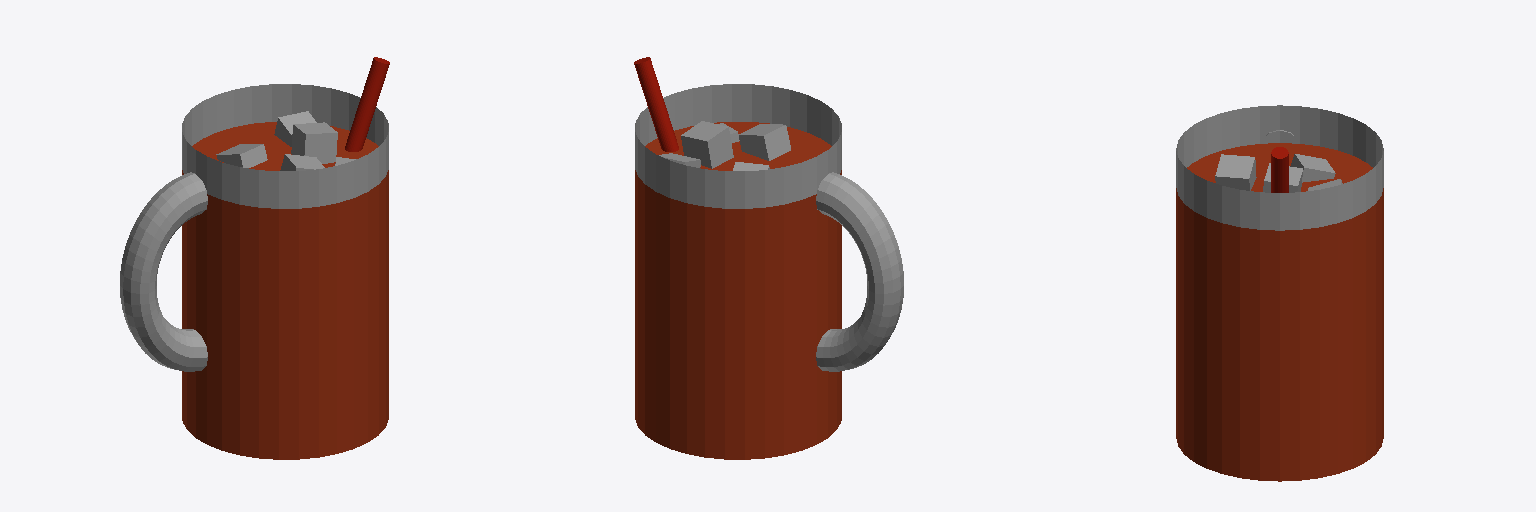
File: teh-beng.obj
3 renders of one model, left to right at view 1: azimuth 30°, elevation 25°; view 2: azimuth 150°, elevation 25°; view 3: azimuth 270°, elevation 25°, orthographic.
Visible parts, largest first — view 1: Cylinder, Torus, Cylinder.001, Cube.002_Cube.003, Cube.001_Cube.002, Cube.003_Cube.004, Cube_Cube.001; view 2: Cylinder, Torus, Cube.002_Cube.003, Cylinder.001, Cube_Cube.001; view 3: Cylinder, Cube_Cube.001, Cube.001_Cube.002, Cylinder.001.
Boxes of the visible parts, x1,y1,x2,y2 form: Cylinder: [182, 84, 388, 459]; Torus: [120, 172, 207, 371]; Cylinder.001: [345, 57, 389, 151]; Cube.002_Cube.003: [291, 122, 337, 163]; Cube.001_Cube.002: [216, 144, 267, 167]; Cube.003_Cube.004: [274, 111, 316, 146]; Cube_Cube.001: [280, 154, 324, 170]; Cylinder: [635, 84, 841, 459]; Torus: [816, 172, 903, 371]; Cube.002_Cube.003: [681, 121, 733, 168]; Cylinder.001: [634, 57, 678, 151]; Cube_Cube.001: [739, 124, 790, 160]; Cylinder: [1176, 105, 1383, 481]; Cube_Cube.001: [1215, 154, 1256, 190]; Cube.001_Cube.002: [1290, 154, 1335, 182]; Cylinder.001: [1271, 147, 1288, 192].
Size of the model in its own units: 1.77 by 2.13 by 1.2.